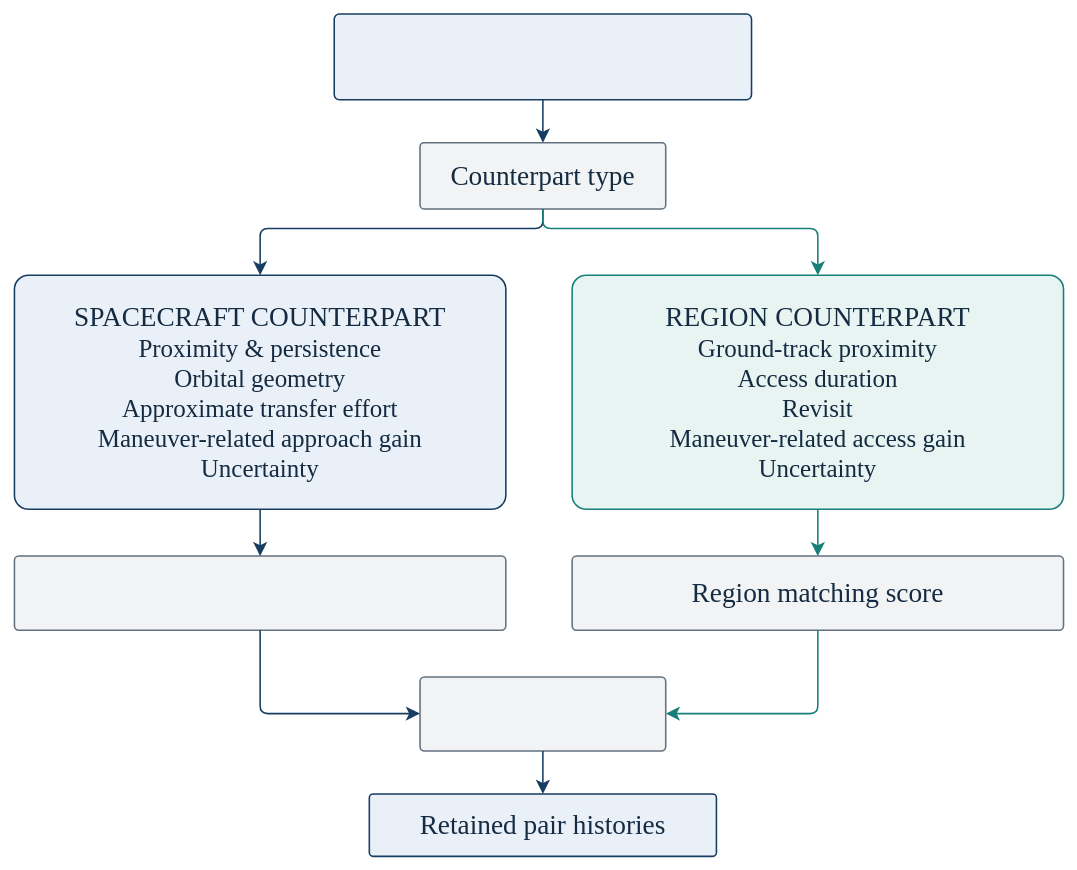
Some shapes in this 1077 by 870 pixel diagram are drawn without their labels. The shapes that lost their labels are listed below. From the top down, each one's centre as x and y in pixels, then its label:
the point at 542,56: Candidate actor–counterpart histories
the point at 259,593: Spacecraft matching score
the point at 542,713: Filtering
